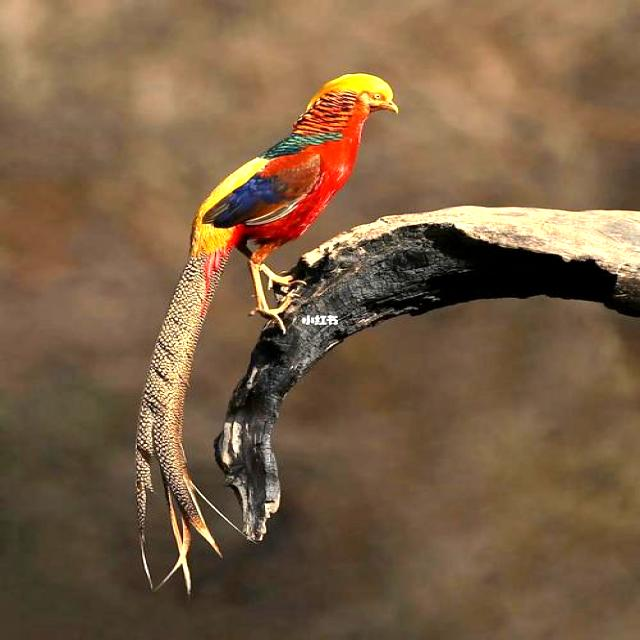Chrysolophus pictus feather: (134, 249, 237, 597)
